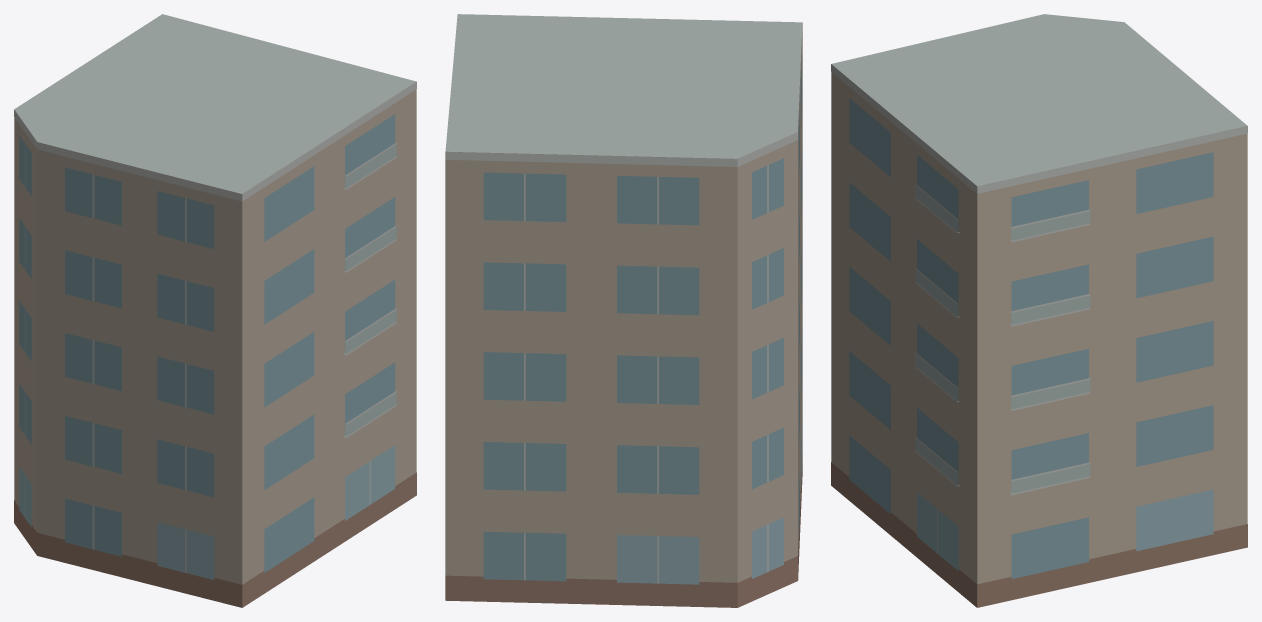
Rendered from survey-upis-32837189.glb.
The picture shows the model from 3 angles, left to right: view 1: azimuth 30°, elevation 25°; view 2: azimuth 150°, elevation 25°; view 3: azimuth 270°, elevation 25°; orthographic projection. The views are drawn at different scales.
Visible parts, largest first — view 1: survey-upis-32837189.tmp; view 2: survey-upis-32837189.tmp; view 3: survey-upis-32837189.tmp.
Part boxes in pixels (bbox=[...]): survey-upis-32837189.tmp: bbox=[14, 14, 416, 607]; survey-upis-32837189.tmp: bbox=[445, 14, 802, 607]; survey-upis-32837189.tmp: bbox=[831, 14, 1247, 607].
Bounding box in the file's own units: 11.84 × 13.5 × 12.1.
